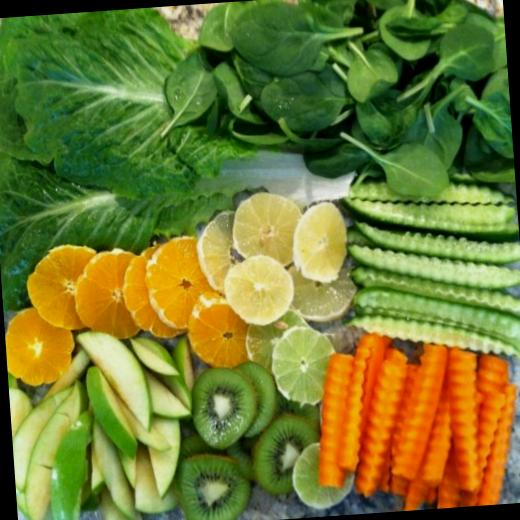Grape: (9, 306, 82, 380)
